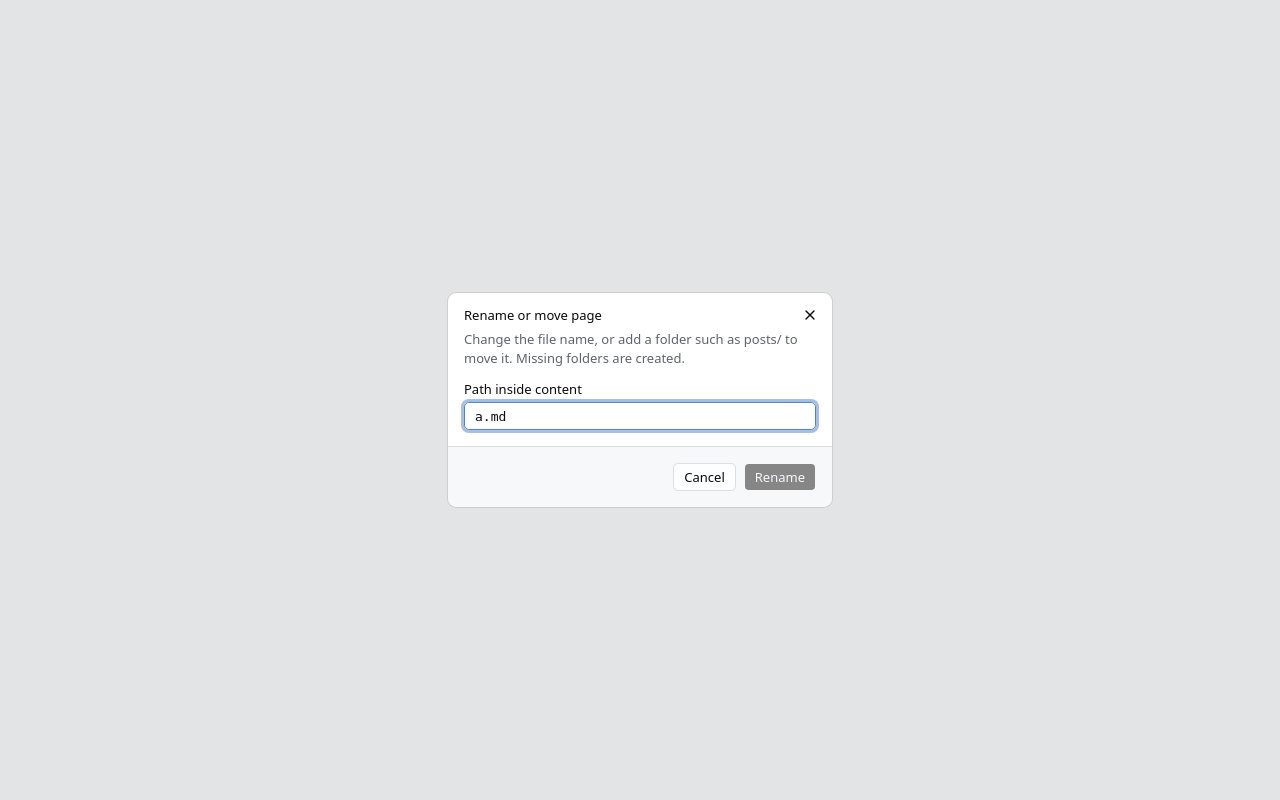
RenamePageDialog › does not rename when the save fails
In the field labelled "Path inside content": (640, 416) [464, 402, 816, 430], type "x"
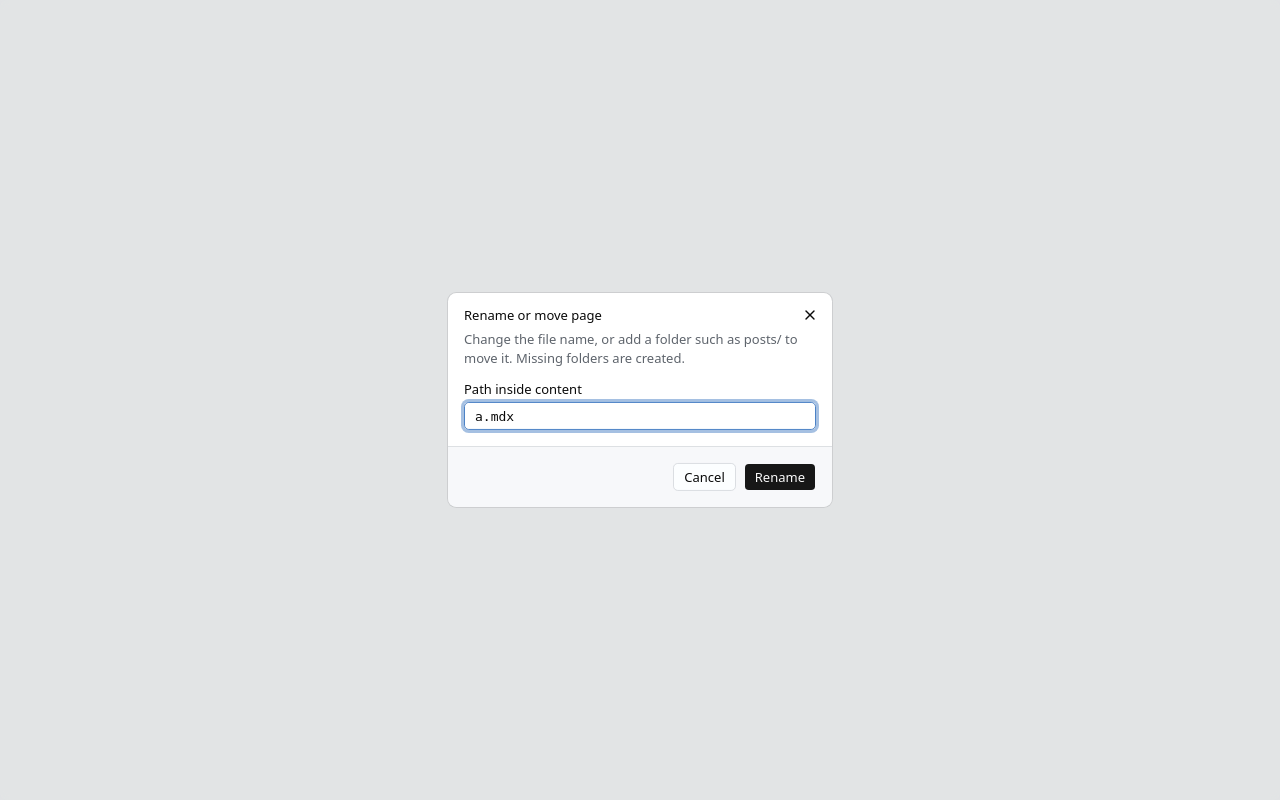
Click the button "Rename": (780, 477) [744, 463, 816, 491]
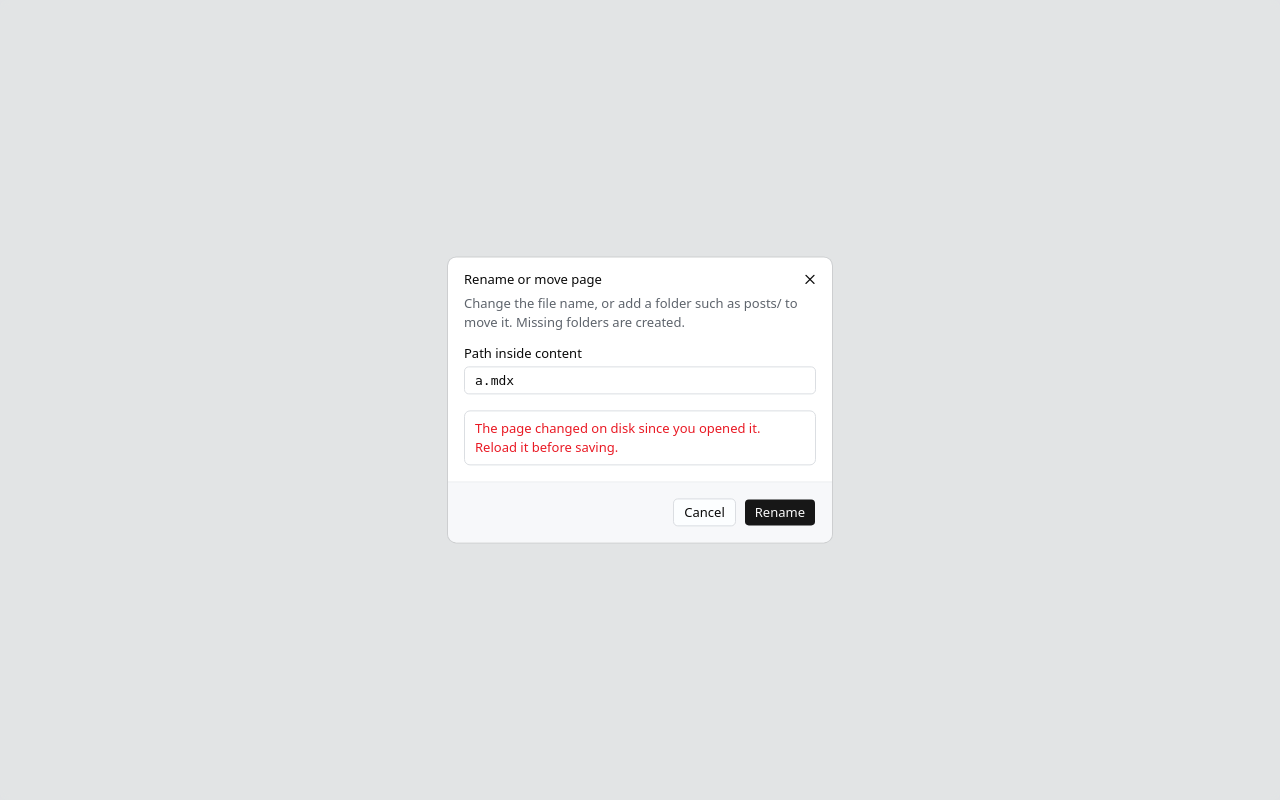
Check: the message shows "changed", box [475, 420, 760, 456]
